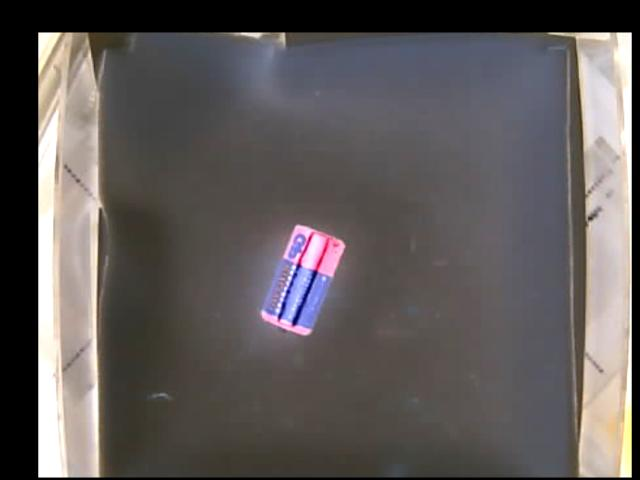Battery: (260, 224, 347, 336)
